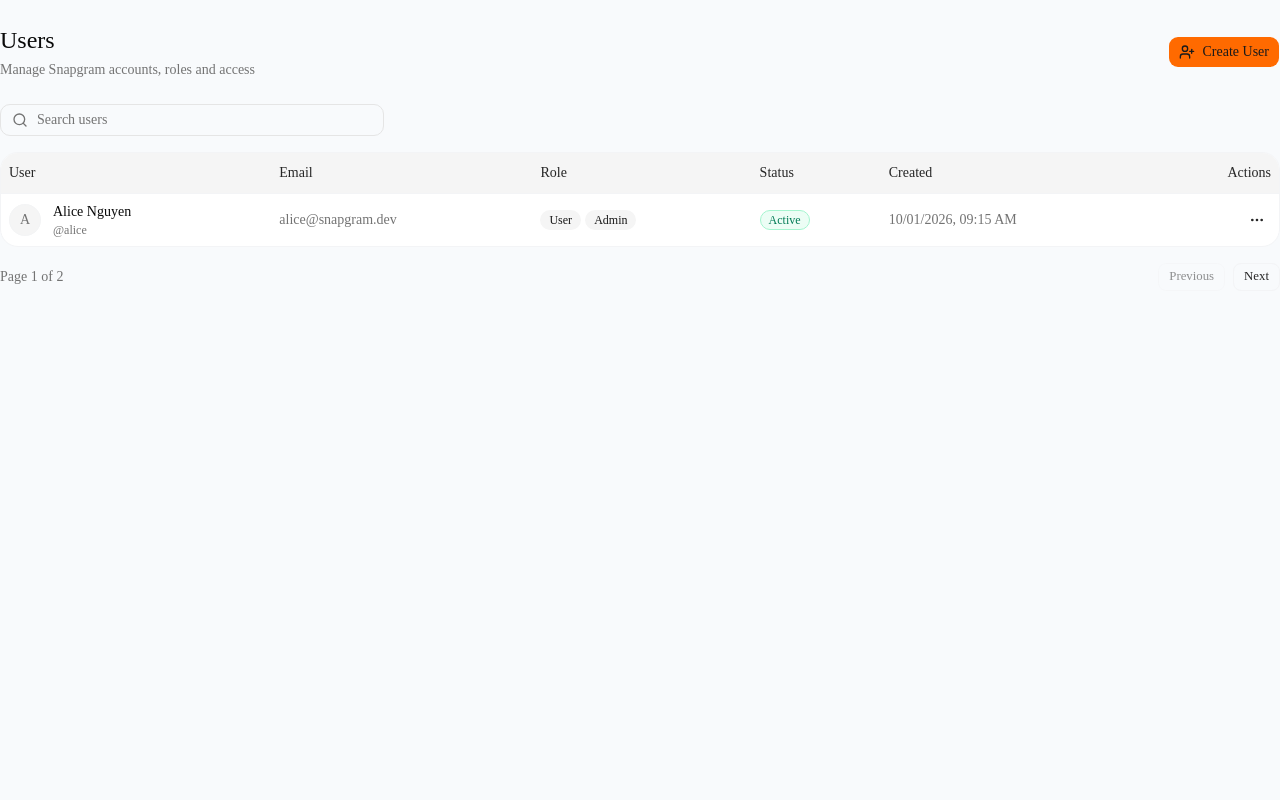
UsersPageContent › opens the role dialog from the row action menu
What coordinates should you click on to do the following:
click the button named "Actions"
I would click on:
 (1257, 220)
Its box is [1243,206,1271,234].
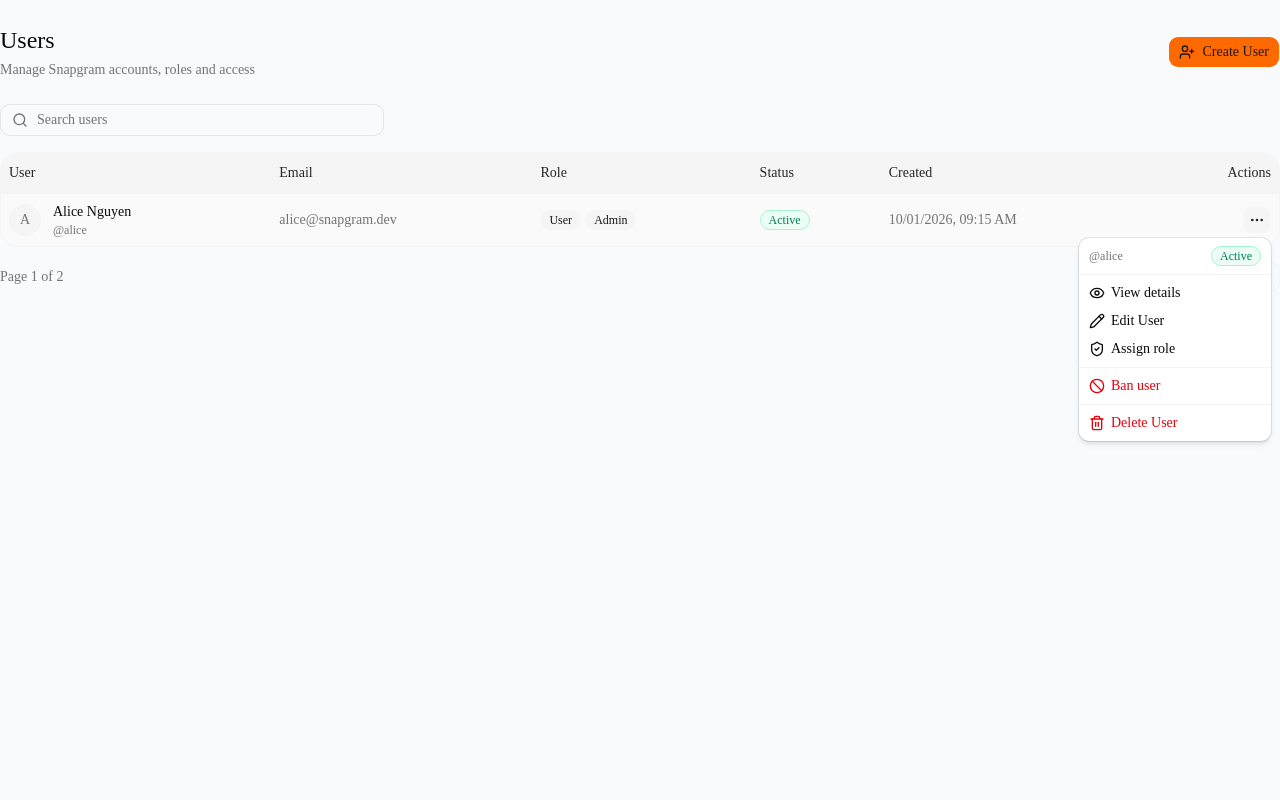
What coordinates should you click on to do the following:
click the menu item "Assign role"
I would click on:
 (1132, 349)
Its box is [1089,341,1175,357].
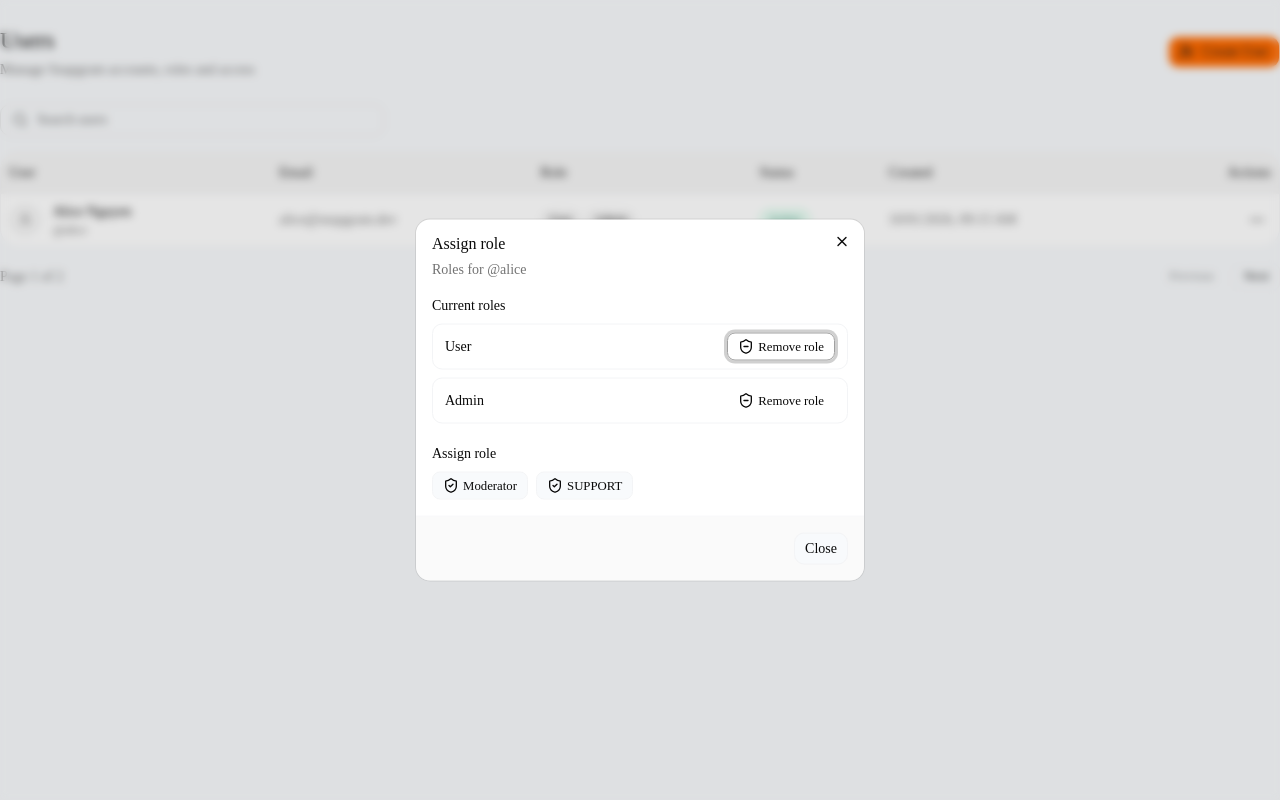
Check: the text "Roles for @alice" is shown, box [432,262,526,276]
